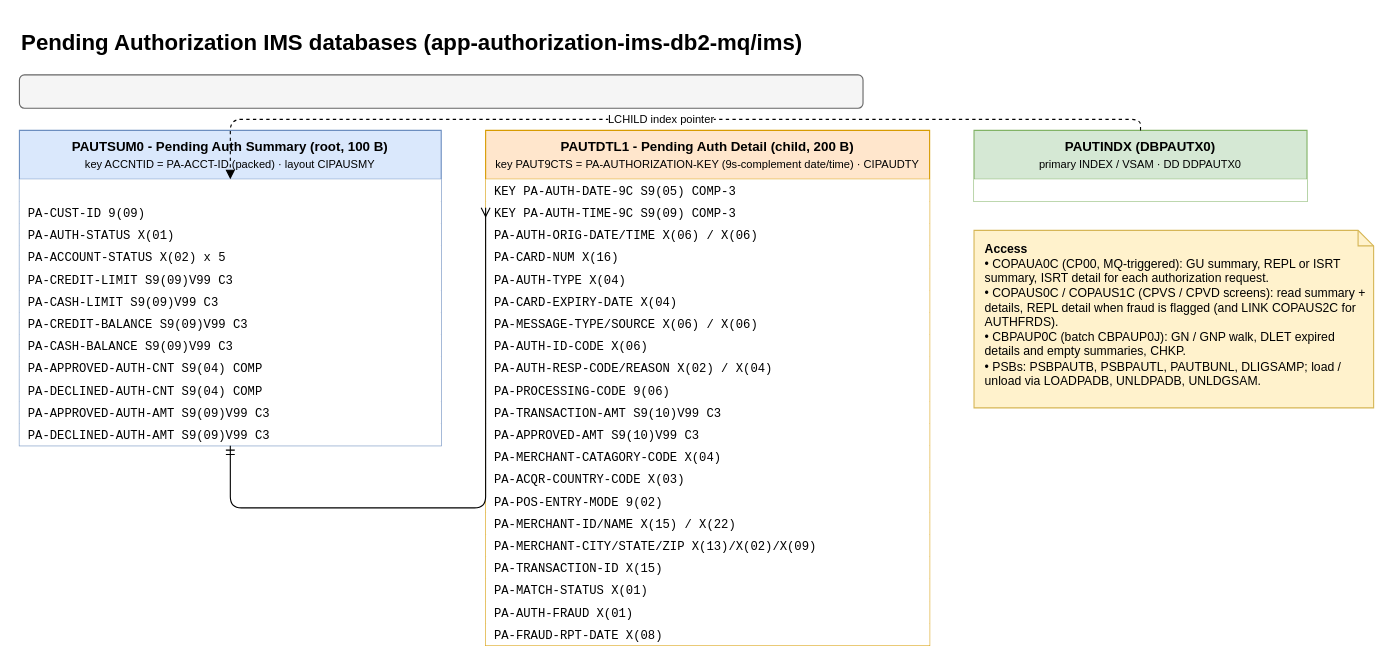
This 1393x665 diagram has some shape labels left out. The centre of each missing label's shape, as x and y in pixels:
"DBPAUTP0 · HIDAM / VSAM · DD DDPAUTP0" goes at pixel 440 91.
"KEY INDXSEQ packed 6 B" goes at pixel 1139 190.
"KEY PA-ACCT-ID S9(11) COMP-3" goes at pixel 230 190.
